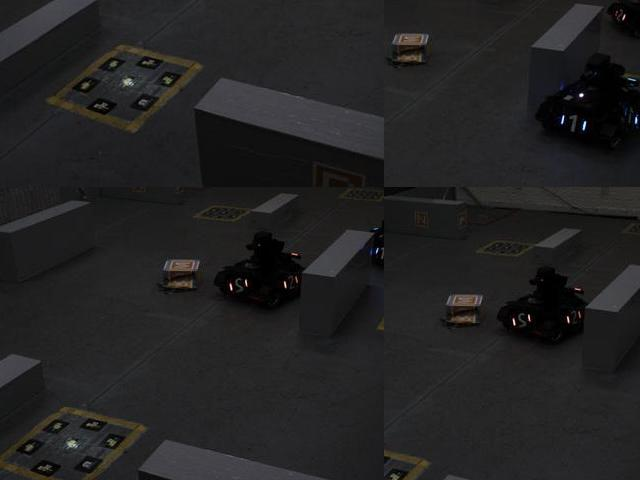armor: (553, 108, 590, 138), (226, 273, 254, 299), (509, 308, 537, 334), (277, 270, 304, 295), (560, 305, 587, 330), (609, 3, 630, 27), (621, 104, 639, 131), (368, 240, 383, 265)
